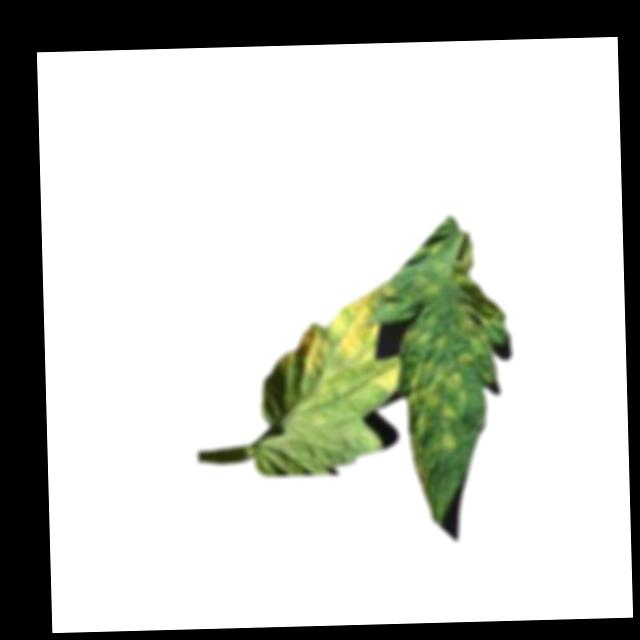Leaf_Mold: (400, 324, 498, 489), (278, 281, 400, 403), (445, 237, 505, 347)
